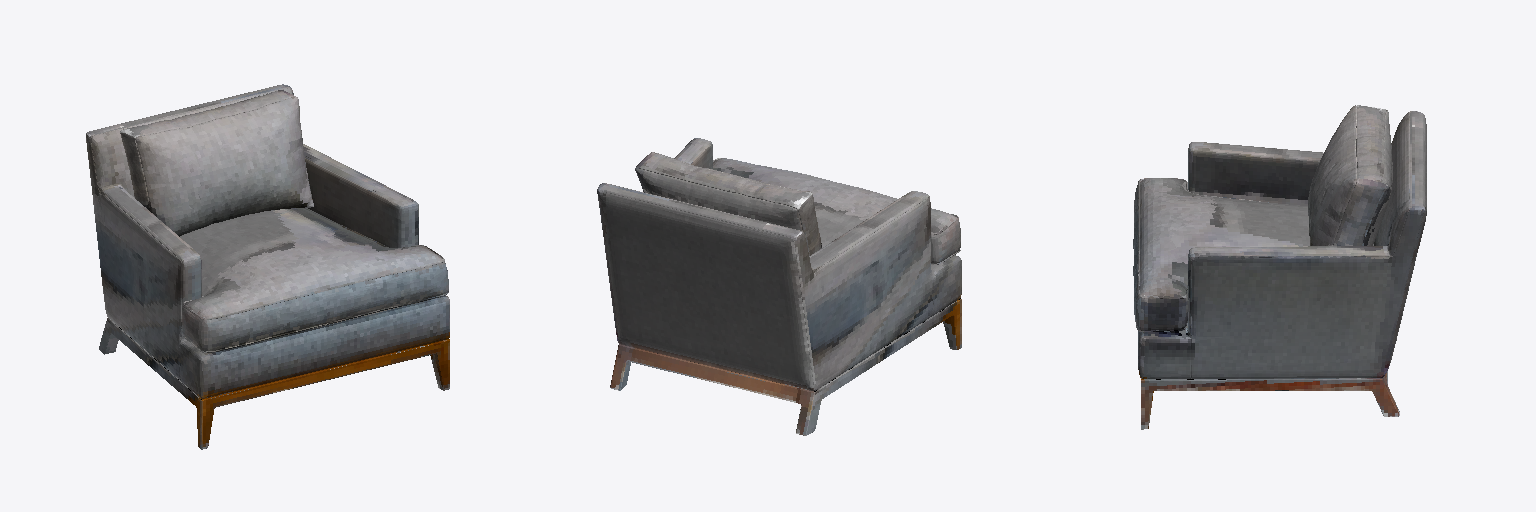
The picture shows the model from 3 angles: view 1: azimuth 30°, elevation 25°; view 2: azimuth 150°, elevation 25°; view 3: azimuth 270°, elevation 25°; orthographic projection.
Bounding box in the file's own units: 0.8361 × 0.7162 × 0.8434.
Materials: 1 (1 with a texture image).